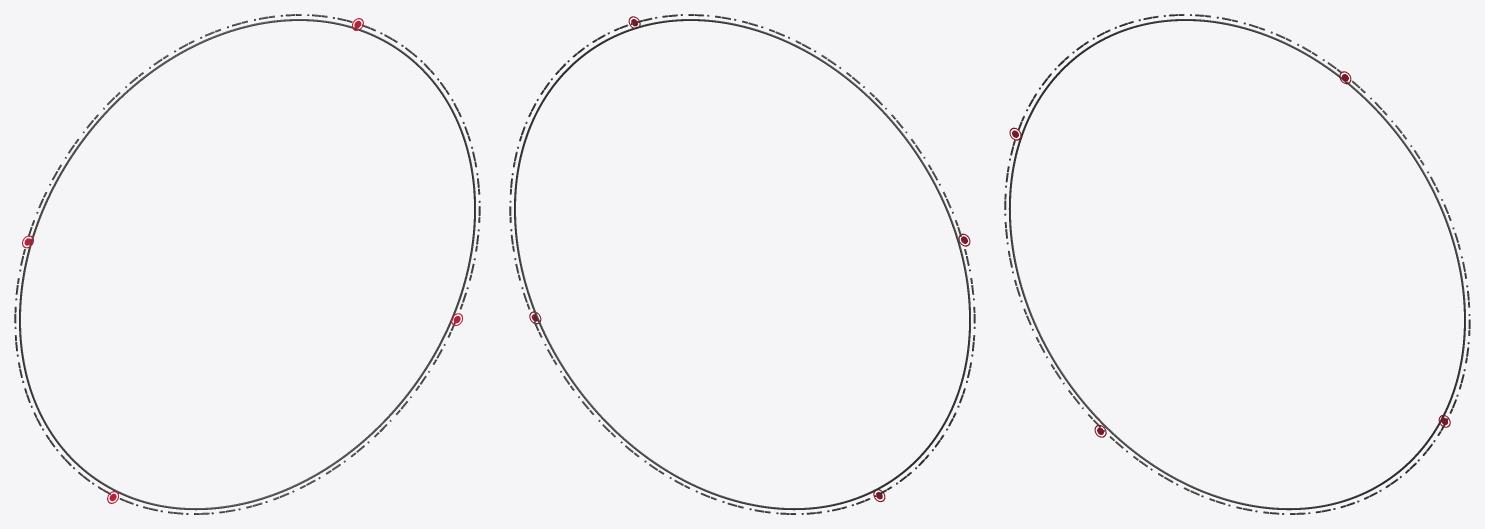
Rendered from vong-tron-cham-do.gltf.
3 renders of one model, left to right at view 1: azimuth 30°, elevation 25°; view 2: azimuth 150°, elevation 25°; view 3: azimuth 330°, elevation 25°, orthographic.
Visible parts, largest first — view 1: Cylinder; view 2: Cylinder; view 3: Cylinder.
Part boxes in pixels (left/top/right/bottom): Cylinder: left=14, top=14, right=480, bottom=514; Cylinder: left=509, top=14, right=975, bottom=514; Cylinder: left=1004, top=14, right=1470, bottom=514.
Bounding box in the file's own units: 4.03 × 4.03 × 0.0261.
